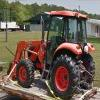Tractor: (12, 7, 93, 92)
